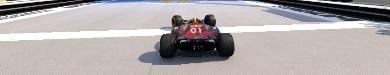Car: (158, 13, 234, 57)
